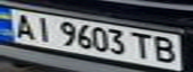0: (90, 25, 109, 53)
3: (106, 26, 130, 56)
6: (75, 22, 93, 51)
9: (54, 18, 78, 47)
A: (6, 11, 39, 40)
B: (151, 34, 181, 64)
I: (30, 15, 57, 43)
T: (127, 30, 157, 61)
